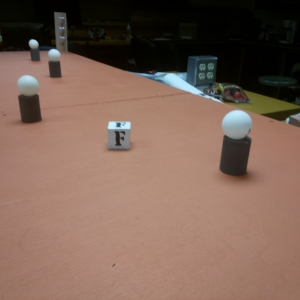blockF: (108, 118, 132, 151)
corner: (53, 11, 69, 49)
obstacle: (219, 111, 255, 176), (16, 73, 42, 126), (47, 47, 63, 79), (28, 37, 40, 62)
